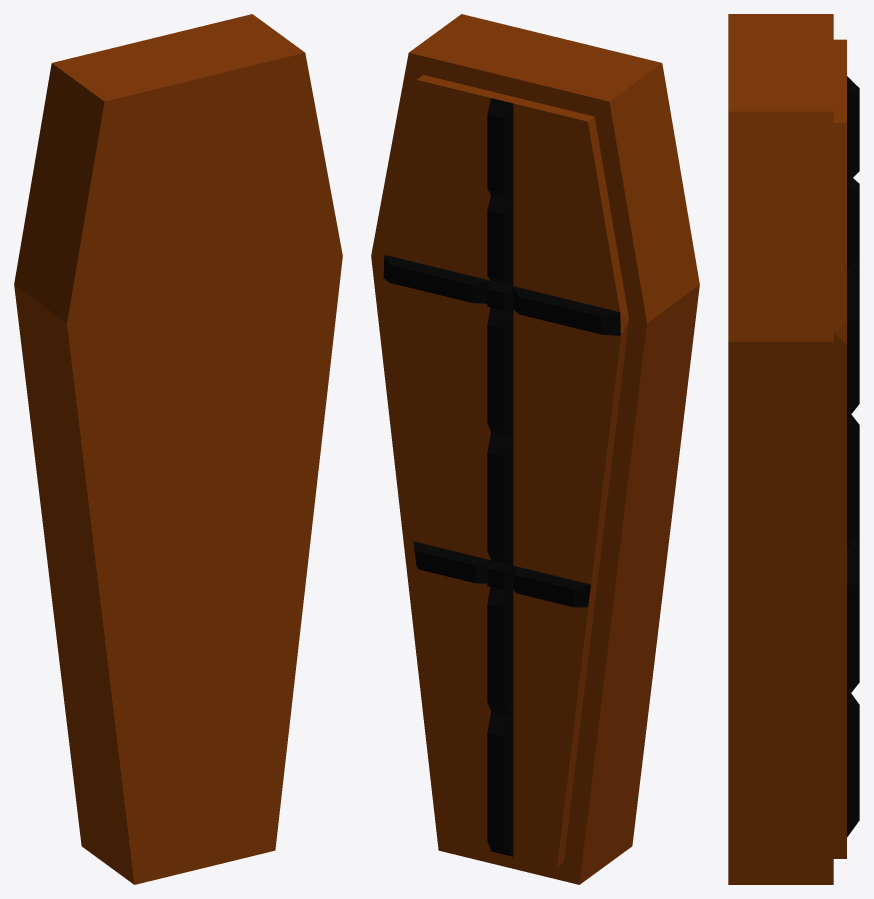
File: coffin.glb
3 renders of one model, left to right at view 1: azimuth 30°, elevation 25°; view 2: azimuth 150°, elevation 25°; view 3: azimuth 270°, elevation 25°, orthographic.
Parts seen in each view (by area): view 1: coffin; view 2: coffin; view 3: coffin.
Boxes of the visible parts, x1,y1,x2,y2 form: coffin: (14,14,342,884); coffin: (371,14,699,884); coffin: (728,14,859,884).
Bounding box in the file's own units: 35.28 × 96.6 × 14.63.
